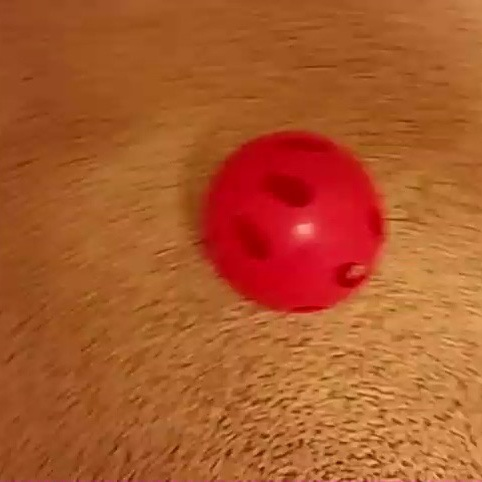redball: (193, 125, 392, 319)
